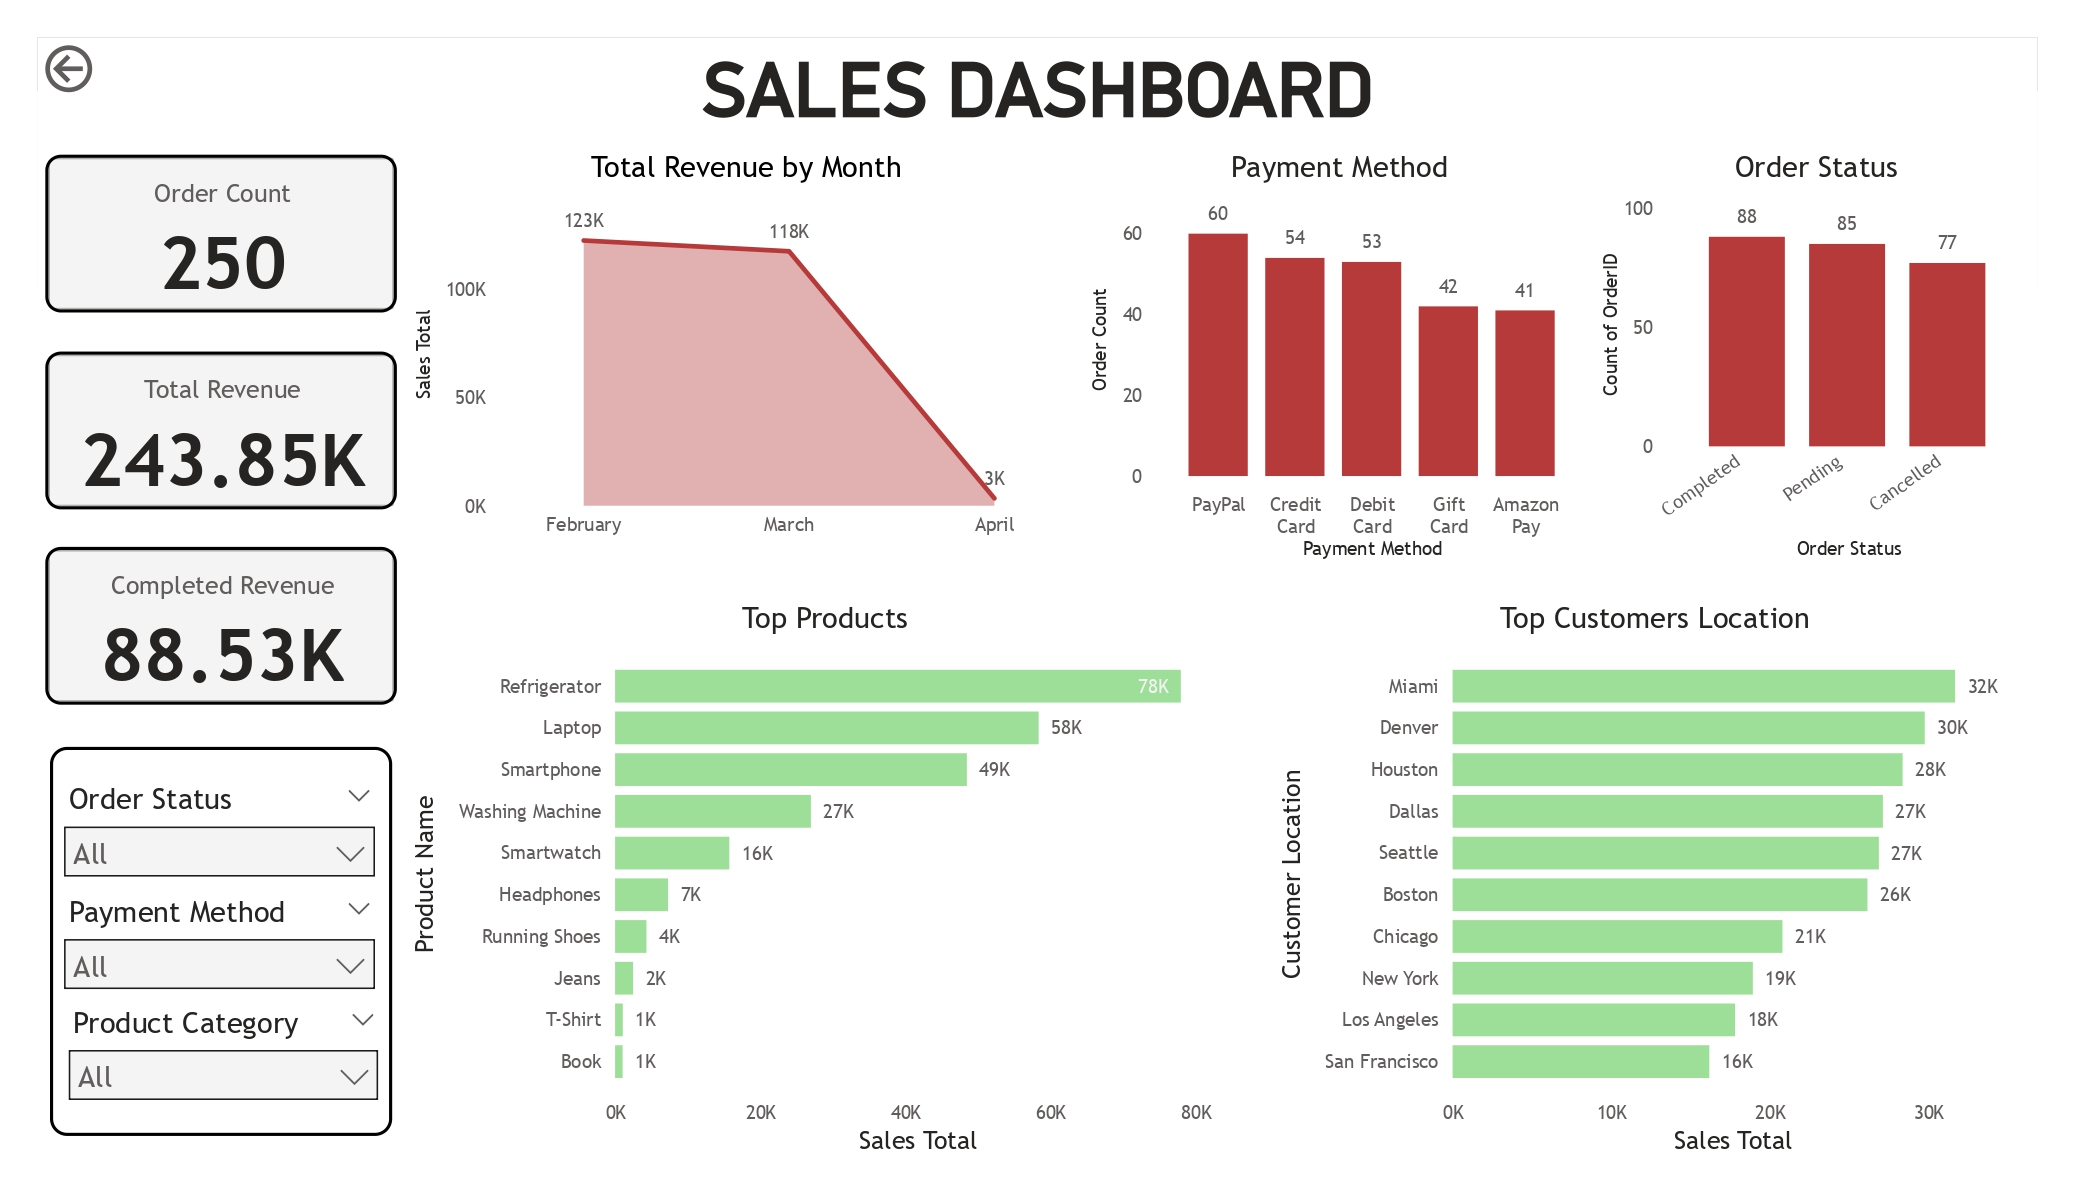

Layout of this report page (visuals, bound fields, positions):
{"tool":"powerbi","page":{"name":"Page 1","canvas":[1280,720],"ordinal":0},"visuals":[{"type":"barChart","title":"Top Products","fields":{"Category":["Query1.Product Name"],"Y":["Sum(Query1.Total Amount)"]},"box":[235,360,538.3,360],"z":0},{"type":"actionButton","box":[0,0,100,40],"z":1000},{"type":"textbox","box":[0,0,1280,70],"z":2000},{"type":"cardVisual","fields":{"Data":["Query1.Order Count"]},"box":[0,70,235.7,111.4],"z":3000,"group":"g1"},{"type":"barChart","title":"Top Customers Location","fields":{"Category":["Query1.Customer Location"],"Y":["Sum(Query1.Total Amount)"]},"box":[790,360,490,360],"z":3000},{"type":"areaChart","title":"Total Revenue by Month","fields":{"Category":["Query1.Order Date.Variation.Date Hierarchy.Month"],"Y":["Sum(Query1.Total Amount)"]},"box":[237.1,71.4,432.9,267.1],"z":4000},{"type":"clusteredColumnChart","title":"Payment Method","fields":{"Category":["Query1.Payment Method"],"Y":["Query1.Order Count"]},"box":[670,71.4,327.1,267.1],"z":5000},{"type":"columnChart","title":"Order Status ","fields":{"Category":["Query1.Order Status"],"Y":["CountNonNull(Query1.OrderID)"]},"box":[997.1,71.4,282.9,267.1],"z":6000},{"type":"group","id":"g1","title":"Group 2","box":[0,70,235.7,632.9],"z":7000},{"type":"shape","box":[8.5,454.3,218.6,248.6],"z":7000,"group":"g2"},{"type":"cardVisual","fields":{"Data":["Query1.Revenue"]},"box":[0,321.4,235.7,111.4],"z":8000,"group":"g1"},{"type":"slicer","fields":{"Values":["Query1.Order Status"]},"box":[7.1,471.4,218.6,71.4],"z":9000,"group":"g2"},{"type":"slicer","fields":{"Values":["Query1.Payment Method"]},"box":[7.1,542.9,218.6,71.4],"z":10000,"group":"g2"},{"type":"cardVisual","fields":{"Data":["Sum(Query1.Total Amount)"]},"box":[0,195.7,235.7,111.4],"z":11000,"group":"g1"},{"type":"slicer","fields":{"Values":["Query1.Category"]},"box":[10,614.5,218.3,71.7],"z":12000,"group":"g2"},{"type":"group","id":"g2","title":"Group 1","box":[7.1,454.3,221.2,248.6],"z":13001,"group":"g1"}]}

Visuals, with their boxes on the page's 1280x720 design canvas (x1, y1, x2, y2). These are canvas units, not pixel positions in the 2075x1200 screenshot, which may show the page scaled, cropped or inside an application window:
"Top Products" barChart: <box>235,360,773,720</box>
actionButton: <box>0,0,100,40</box>
textbox: <box>0,0,1280,70</box>
cardVisual - Query1.Order Count: <box>0,70,236,181</box>
"Top Customers Location" barChart: <box>790,360,1280,720</box>
"Total Revenue by Month" areaChart: <box>237,71,670,338</box>
"Payment Method" clusteredColumnChart: <box>670,71,997,338</box>
"Order Status " columnChart: <box>997,71,1280,338</box>
"Group 2" group: <box>0,70,236,703</box>
shape: <box>8,454,227,703</box>
cardVisual - Query1.Revenue: <box>0,321,236,433</box>
slicer - Query1.Order Status: <box>7,471,226,543</box>
slicer - Query1.Payment Method: <box>7,543,226,614</box>
cardVisual - Sum(Query1.Total Amount): <box>0,196,236,307</box>
slicer - Query1.Category: <box>10,614,228,686</box>
"Group 1" group: <box>7,454,228,703</box>
